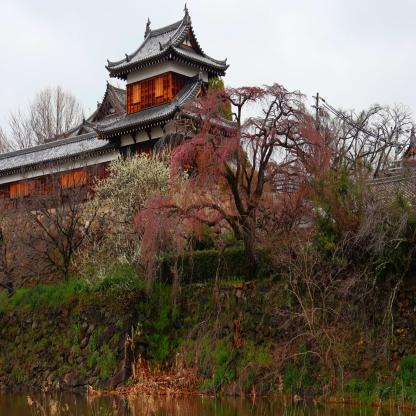Ume: (137, 70, 354, 300), (68, 144, 189, 294)
